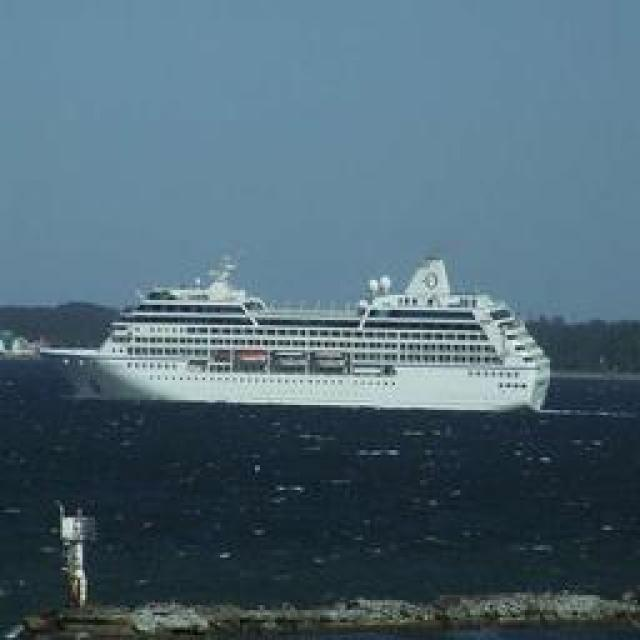Ship: (16, 244, 553, 424)
